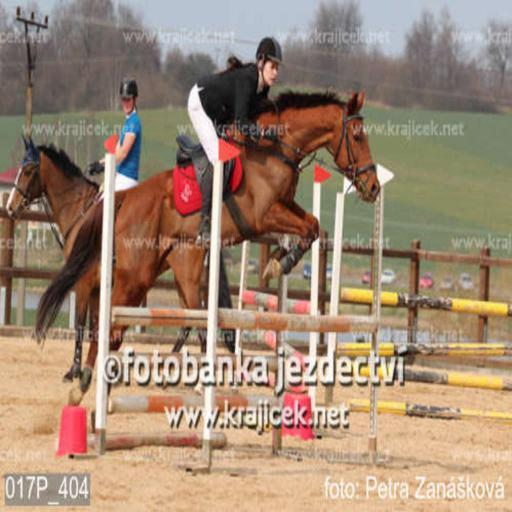horse: (30, 89, 380, 406), (6, 132, 235, 386)
